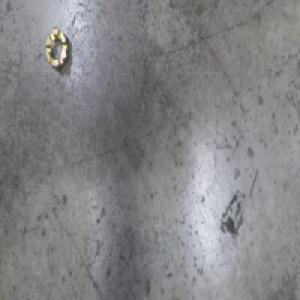Nut: (43, 24, 70, 73)
